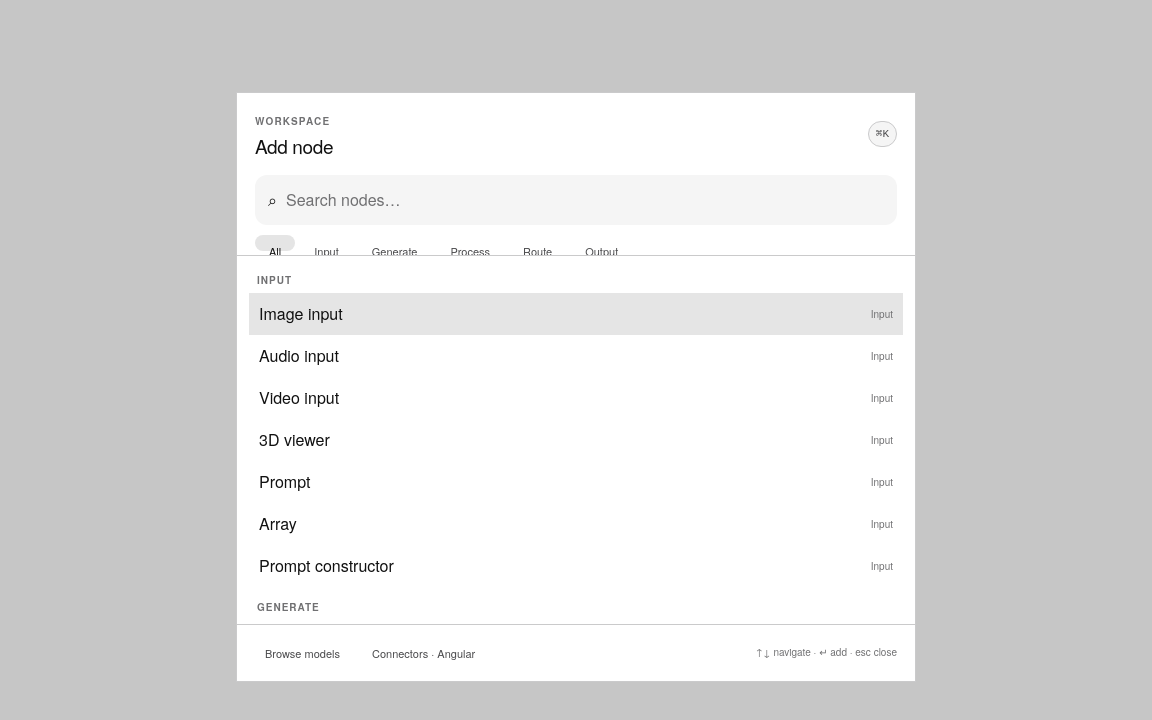
Test: AddPalette › filters nodes by name and keyword
Step 1. Type "video" into the search field named "Search nodes" → (585, 200), box [286, 176, 884, 224]
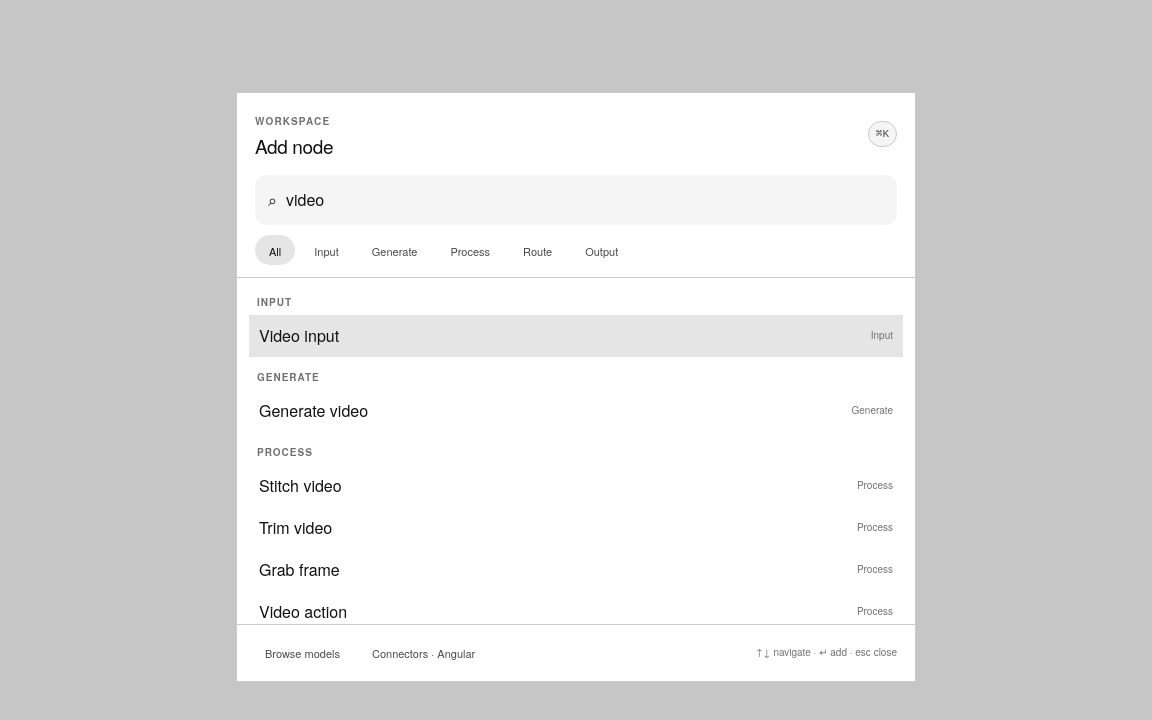
Now the button "Generate video Generate" is shown, box [249, 390, 903, 432]
Now the button "Prompt" is gone
Step 2. Replace the text in the search field named "Search nodes" with "music" → (585, 200), box [286, 176, 884, 224]
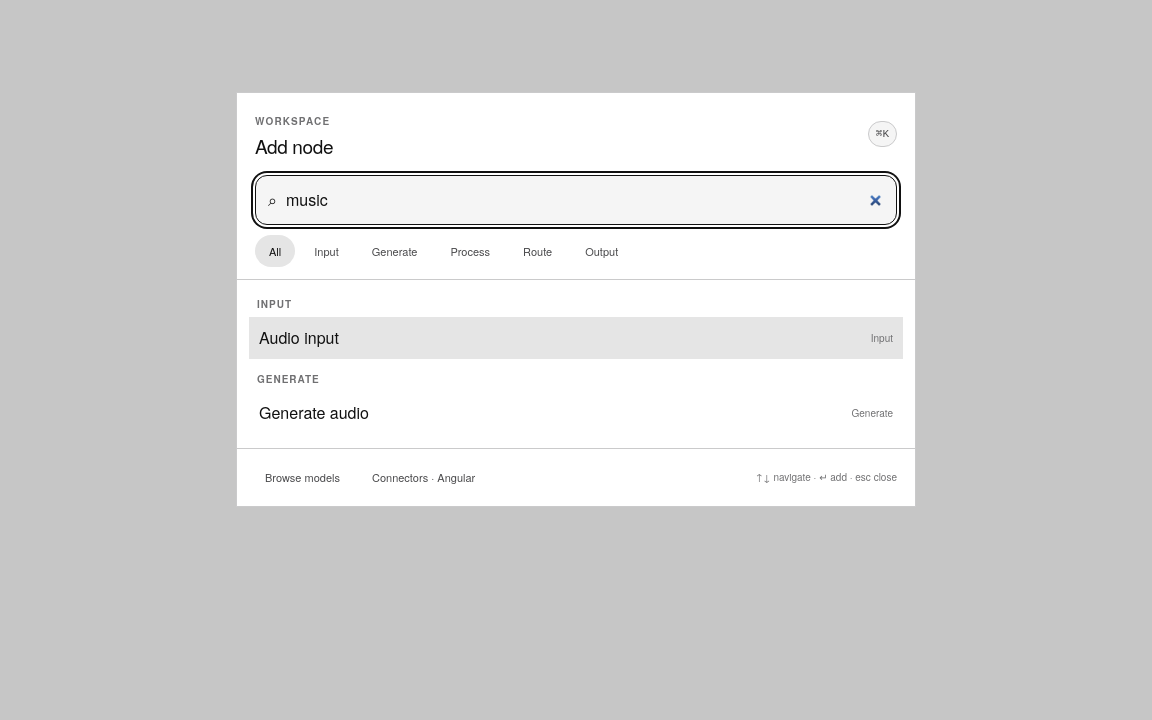
Now the button "Audio input Input" is shown, box [249, 317, 903, 359]
